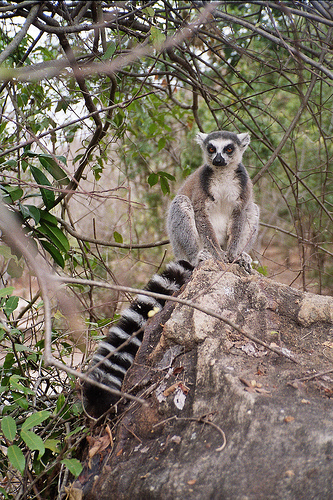cat: (76, 126, 262, 423)
